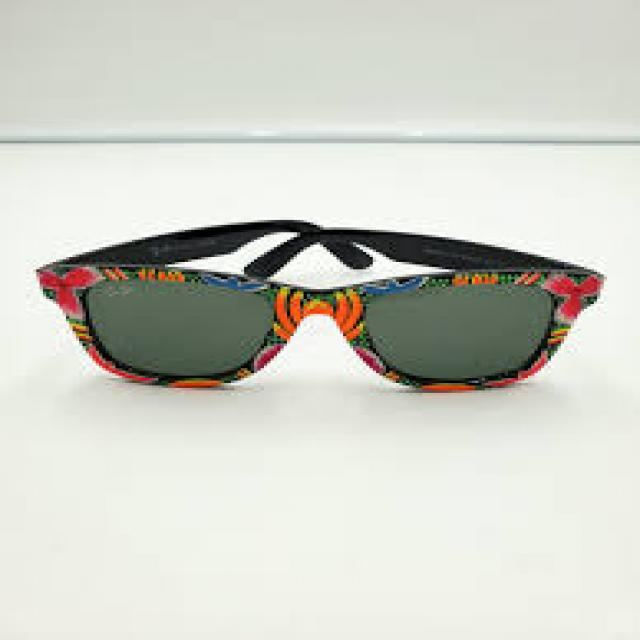glasses: (0, 195, 630, 430)
